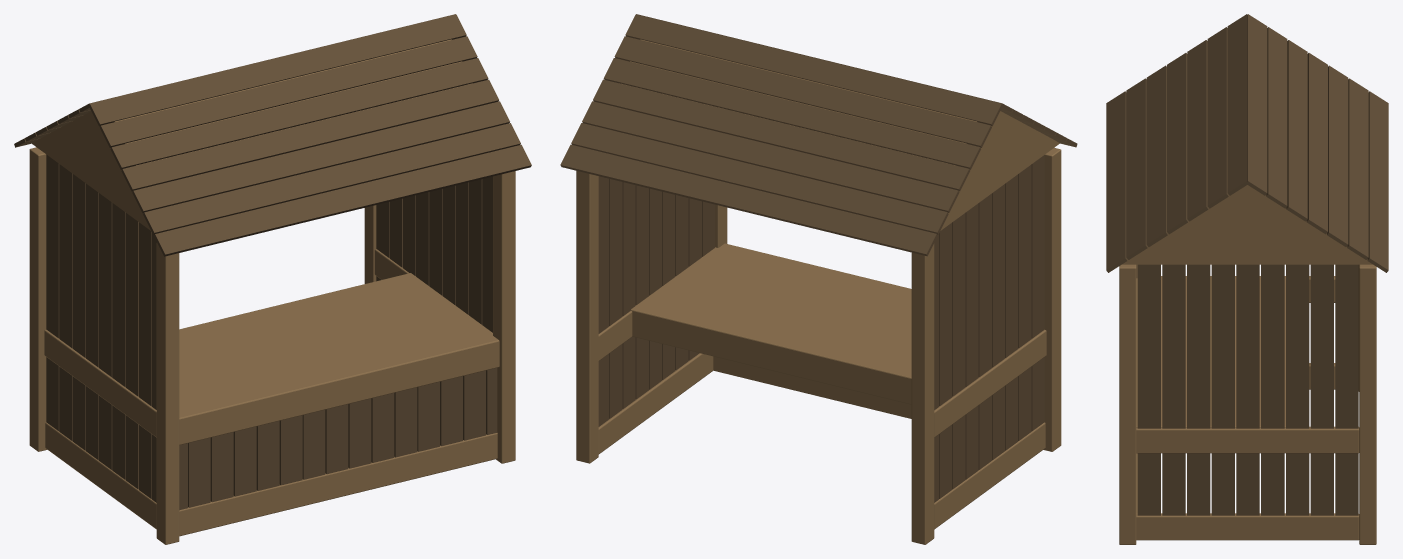
Rendered from marketstand.fbx.
3 views of the same model, side by side, from view 1: azimuth 30°, elevation 25°; view 2: azimuth 150°, elevation 25°; view 3: azimuth 270°, elevation 25° (orthographic). The views are drawn at different scales.
Visible parts, largest first — view 1: Cube.013, Cube.002, Cube.040, Cube.042, Cube.036, Cube.041, Cube.037, Cube.038, Cube.039, Cube, Cube.014, Cube.018 (+30 smaller); view 2: Cube.013, Cube.002, Cube.046, Cube.043, Cube.044, Cube.045, Cube.049, Cube.048, Cube.047, Cube, Cube.004, Cube.014 (+16 smaller); view 3: Cube.013, Cube, Cube.002, Cube.001, Cube.003, Cube.007, Cube.010, Cube.005, Cube.006, Cube.008, Cube.009, Cube.011 (+14 smaller).
Boxes of the visible parts, x1=… form: Cube.013: x1=44, y1=249, x2=499, y2=536; Cube.002: x1=29, y1=147, x2=515, y2=544; Cube.040: x1=154, y1=144, x2=531, y2=256; Cube.042: x1=132, y1=101, x2=509, y2=213; Cube.036: x1=121, y1=79, x2=498, y2=191; Cube.041: x1=143, y1=123, x2=520, y2=234; Cube.037: x1=110, y1=58, x2=488, y2=169; Cube.038: x1=100, y1=36, x2=477, y2=147; Cube.039: x1=89, y1=14, x2=466, y2=126; Cube: x1=32, y1=39, x2=472, y2=230; Cube.014: x1=125, y1=213, x2=138, y2=489; Cube.018: x1=72, y1=174, x2=85, y2=450; Cube.013: x1=598, y1=243, x2=1046, y2=529; Cube.002: x1=576, y1=147, x2=1061, y2=544; Cube.046: x1=560, y1=144, x2=937, y2=256; Cube.043: x1=593, y1=79, x2=970, y2=191; Cube.044: x1=582, y1=101, x2=959, y2=212; Cube.045: x1=571, y1=123, x2=948, y2=234; Cube.049: x1=603, y1=58, x2=980, y2=169; Cube.048: x1=614, y1=36, x2=991, y2=147; Cube.047: x1=625, y1=14, x2=1001, y2=126; Cube: x1=621, y1=39, x2=1059, y2=230; Cube.004: x1=1031, y1=155, x2=1044, y2=431; Cube.014: x1=1005, y1=174, x2=1018, y2=450; Cube.013: x1=1136, y1=276, x2=1359, y2=540; Cube: x1=1122, y1=35, x2=1372, y2=264; Cube.002: x1=1119, y1=264, x2=1376, y2=544; Cube.001: x1=1261, y1=264, x2=1284, y2=515; Cube.003: x1=1236, y1=264, x2=1259, y2=515; Cube.007: x1=1335, y1=264, x2=1358, y2=515; Cube.010: x1=1162, y1=264, x2=1185, y2=515; Cube.005: x1=1286, y1=264, x2=1309, y2=515; Cube.006: x1=1310, y1=264, x2=1333, y2=515; Cube.008: x1=1211, y1=264, x2=1234, y2=515; Cube.009: x1=1187, y1=264, x2=1210, y2=515; Cube.011: x1=1137, y1=264, x2=1160, y2=515.
Bounding box in the file's own units: 320 × 329 × 229.
